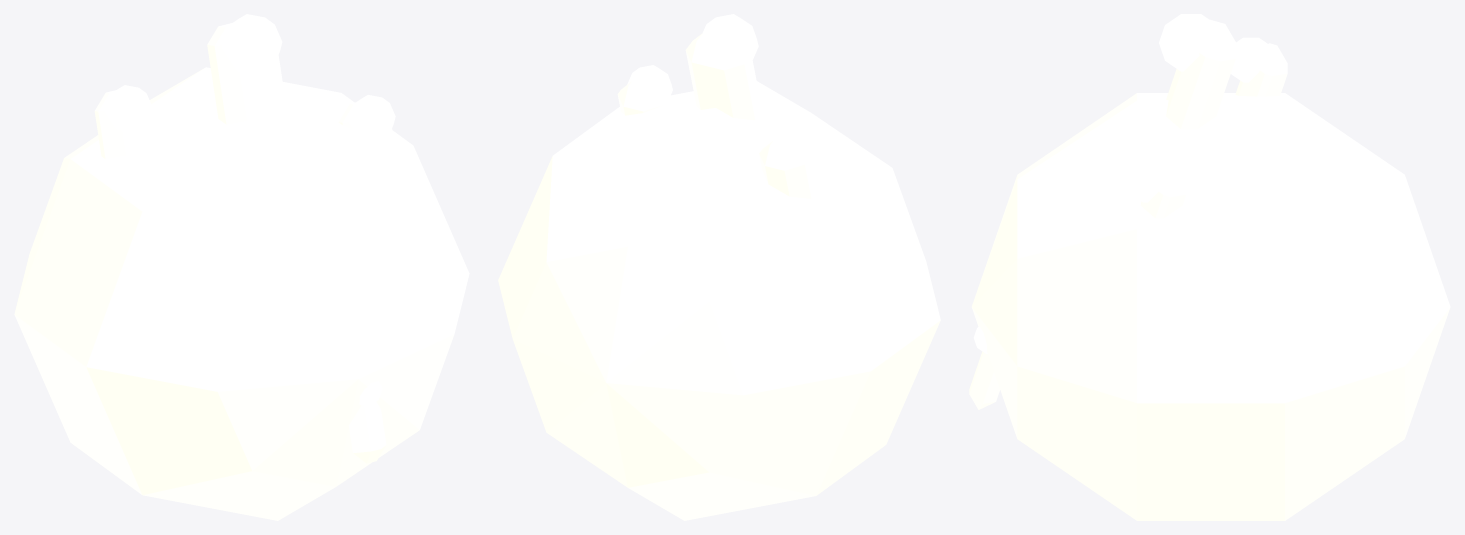
File: EmberSprite.glb
3 renders of one model, left to right at view 1: azimuth 30°, elevation 25°; view 2: azimuth 150°, elevation 25°; view 3: azimuth 270°, elevation 25°, orthographic. The views are drawn at different scales.
Visible parts, largest first — view 1: Glow; view 2: Glow; view 3: Glow.
Boxes of the visible parts, x1,y1,x2,y2 form: Glow: [14, 14, 469, 520]; Glow: [498, 14, 940, 520]; Glow: [969, 14, 1450, 520].
Size of the model in its own units: 1.14 by 1.38 by 1.21.
